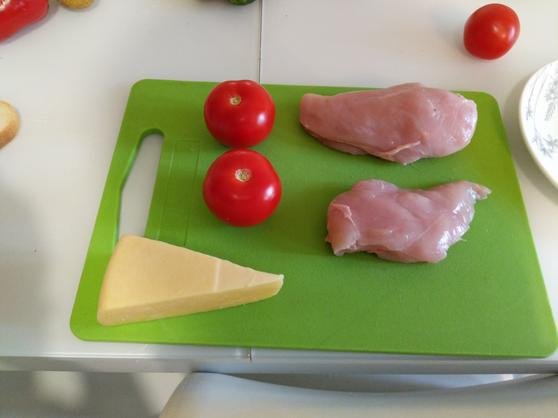cheese: (100, 234, 285, 326)
chicken_fillet: (293, 81, 477, 161), (328, 177, 493, 261)
tomato: (204, 148, 282, 225), (204, 79, 277, 144), (463, 2, 521, 59)
